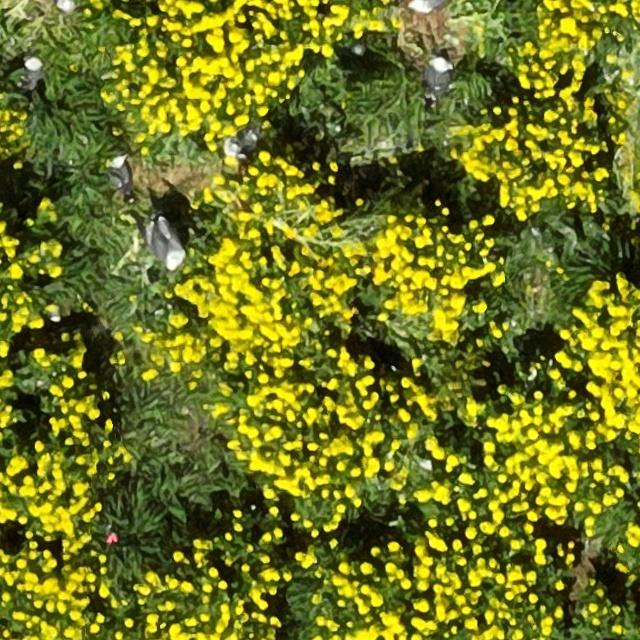umineko: (153, 222, 183, 268), (426, 56, 448, 94), (110, 157, 131, 190), (21, 56, 42, 88), (409, 0, 448, 10)
